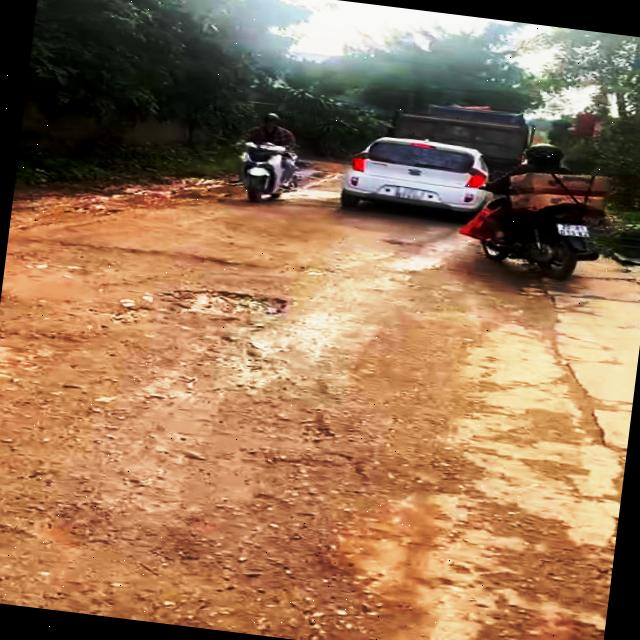pothole: (149, 279, 292, 332)
